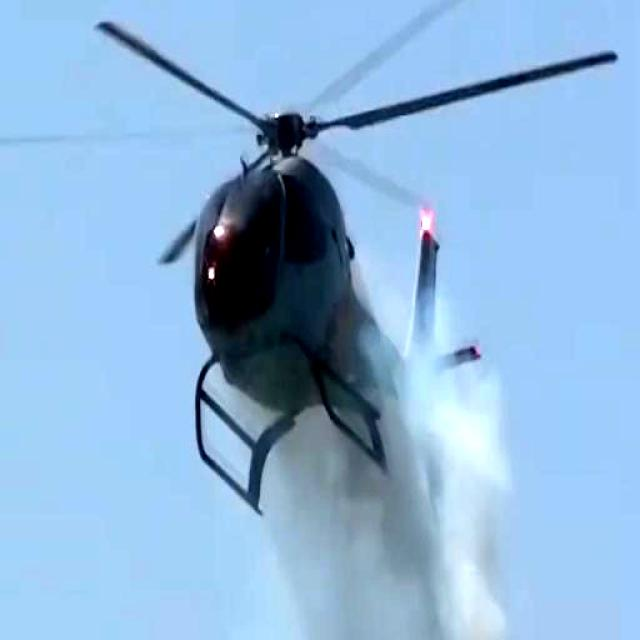drone: (116, 6, 514, 532)
